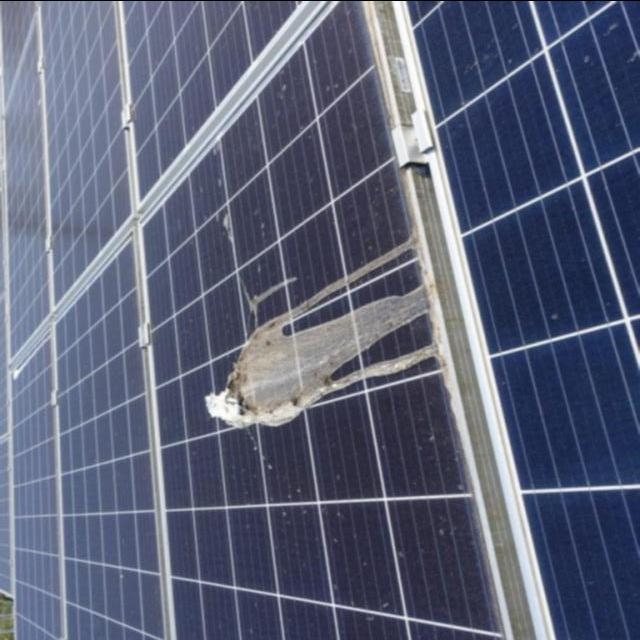soiled: (141, 30, 514, 638)
